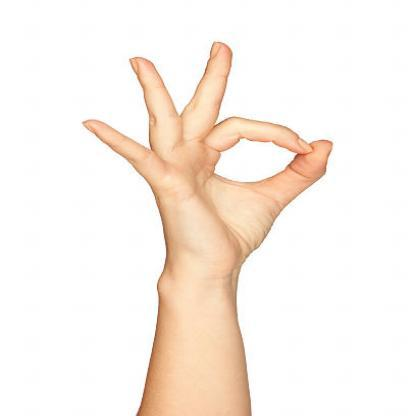ok: (79, 35, 342, 262)
